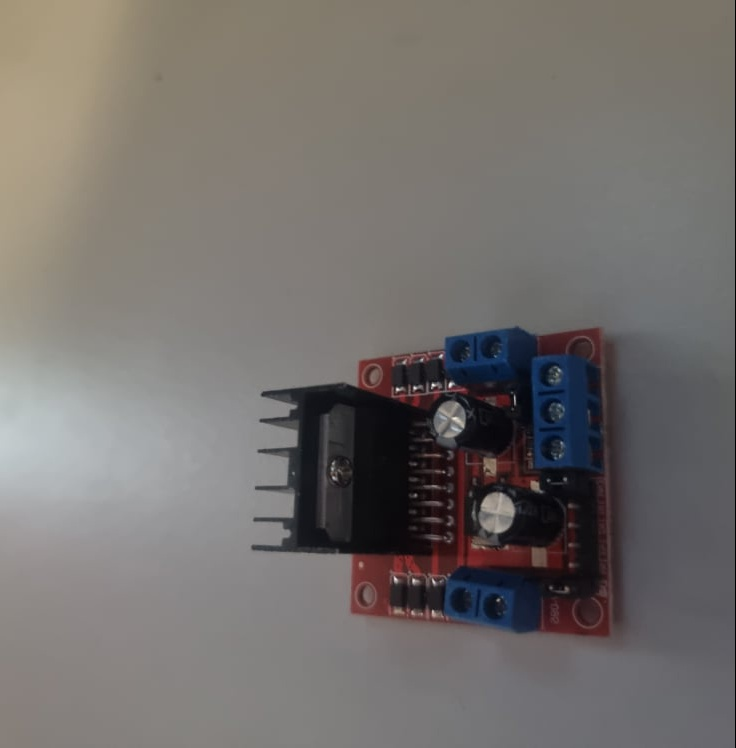MOTOR: (251, 326, 613, 636)
